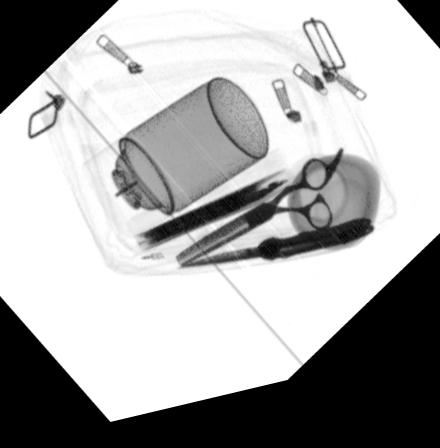Knife: (177, 234, 374, 274)
Powerbank: (132, 178, 297, 259)
Scissors: (176, 161, 346, 275)
Sprayer: (83, 85, 271, 241)
